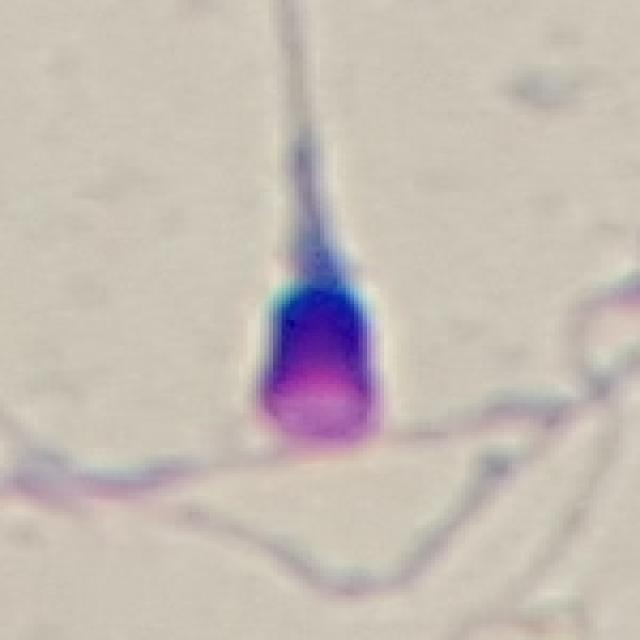abnormal sperm: (226, 15, 404, 446)
